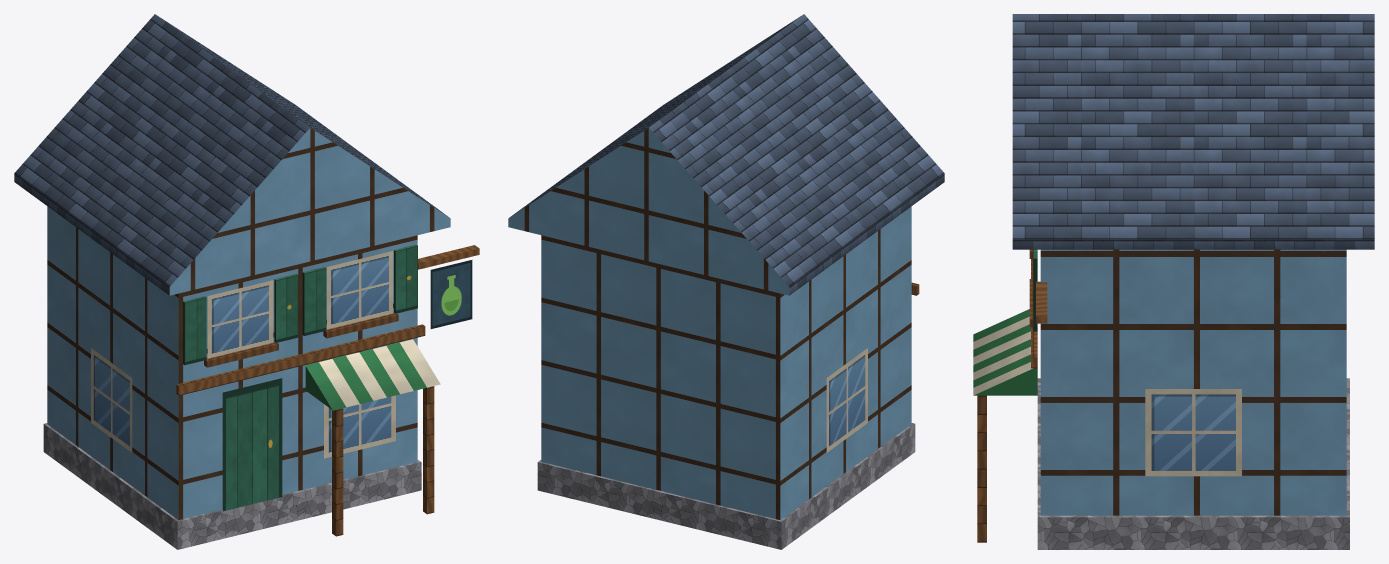
Rendered from House_Shop2.glb.
The picture shows the model from 3 angles, left to right: view 1: azimuth 30°, elevation 25°; view 2: azimuth 150°, elevation 25°; view 3: azimuth 270°, elevation 25°; orthographic projection. The views are drawn at different scales.
Parts seen in each view (by area): view 1: House_Shop2; view 2: House_Shop2; view 3: House_Shop2.
Boxes of the visible parts, box(x1,y1,x2,y2) form: House_Shop2: box(14, 14, 479, 549); House_Shop2: box(508, 14, 944, 549); House_Shop2: box(973, 14, 1374, 549).
Bounding box in the file's own units: 5.35 × 6.4 × 4.99.
Materials: 8 (8 with a texture image).
